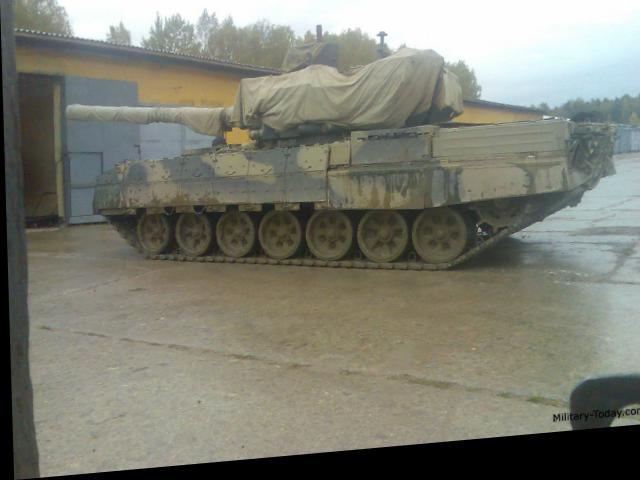tank: (89, 39, 583, 275)
